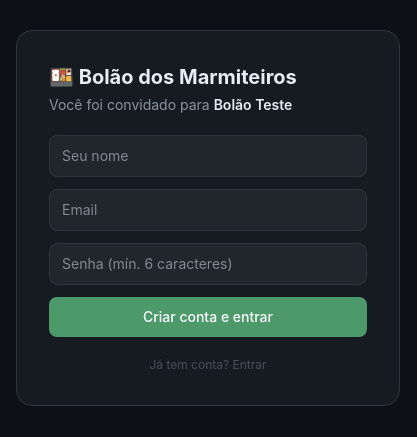
Test: JoinForm › exibe erro quando API retorna erro de registro
Type "João" into the field with placeholder "Seu nome".
click(208, 156); type("João")  # box [49,135,367,177]
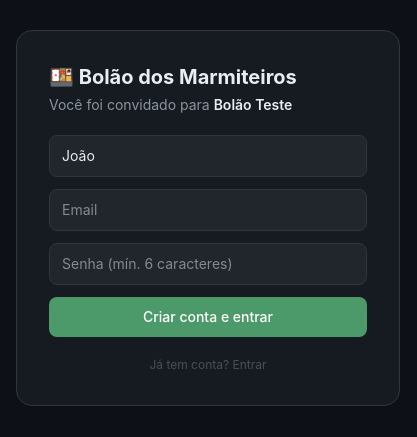
Type "joao@test.com" into the field with placeholder "Email".
click(208, 210); type("joao@test.com")  # box [49,189,367,231]
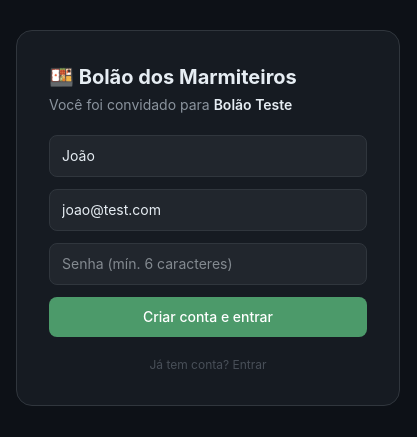
Type "senha123" into the password field with placeholder "Senha (mín. 6 caracteres)".
click(208, 264); type("senha123")  # box [49,243,367,285]
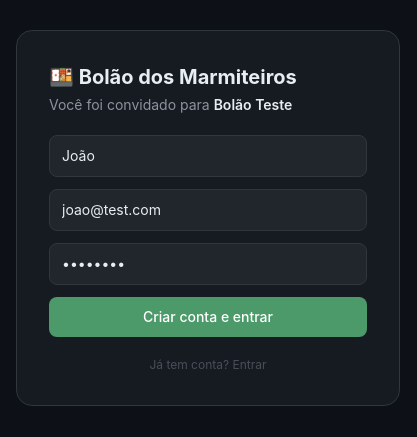
Submit the form "Criar conta e entrar", box [49,135,367,337]
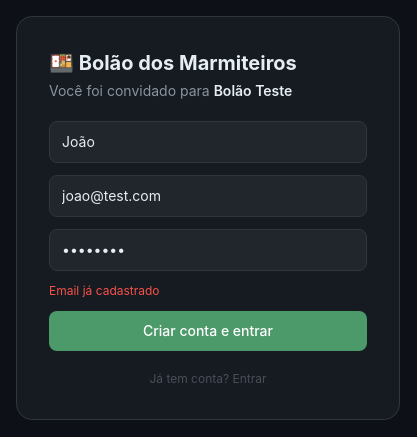
Expected: the text "Email já cadastrado" is shown, [49,283,160,298]
